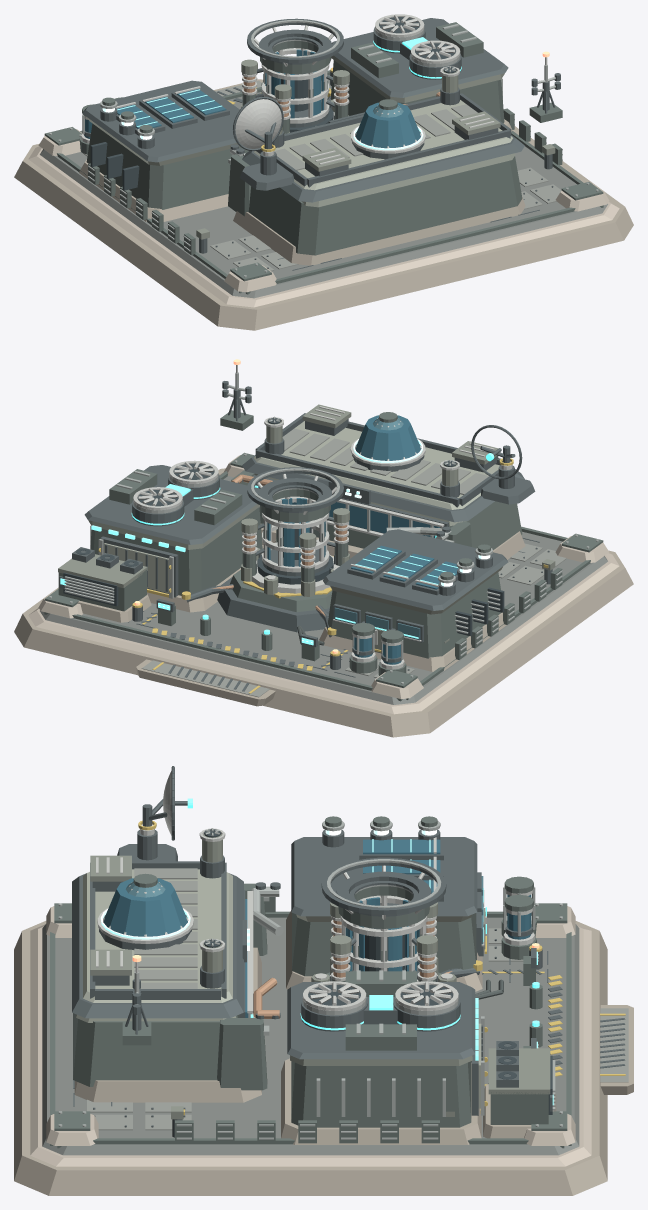
Rendered from research-offline.glb.
3 renders of one model, top to bottom at view 1: azimuth 30°, elevation 25°; view 2: azimuth 150°, elevation 25°; view 3: azimuth 270°, elevation 25°, orthographic. The views are drawn at different scales.
Visible parts, largest first — view 1: static__olive_dark, static__steel_dark, static__foundation, static__deck, static__concrete_high, static__steel_light, static__olive, static__glass_dark, static__deck_light, static__olive_light, static__steel, static__recess (+3 smaller); view 2: static__steel_dark, static__olive_dark, static__foundation, static__deck, static__concrete_high, static__steel_light, static__glass_dark, static__olive, static__deck_light, static__olive_light, static__steel, static__recess (+6 smaller); view 3: static__olive_dark, static__steel_dark, static__foundation, static__deck, static__concrete_high, static__steel_light, static__olive, static__deck_light, static__glass_dark, static__olive_light, static__steel, static__recess (+7 smaller).
Boxes of the visible parts, left/top/right/bottom form: static__olive_dark: left=43, top=22, right=603, bottom=294; static__steel_dark: left=82, top=18, right=560, bottom=270; static__foundation: left=14, top=79, right=633, bottom=330; static__deck: left=40, top=75, right=607, bottom=298; static__concrete_high: left=28, top=129, right=619, bottom=307; static__steel_light: left=81, top=14, right=547, bottom=164; static__olive: left=196, top=55, right=555, bottom=239; static__glass_dark: left=84, top=49, right=420, bottom=148; static__deck_light: left=83, top=80, right=561, bottom=271; static__olive_light: left=87, top=100, right=512, bottom=190; static__steel: left=49, top=24, right=598, bottom=277; static__recess: left=90, top=17, right=456, bottom=190; static__steel_dark: left=59, top=381, right=552, bottom=691; static__olive_dark: left=44, top=410, right=603, bottom=701; static__foundation: left=14, top=468, right=633, bottom=737; static__deck: left=40, top=476, right=607, bottom=704; static__concrete_high: left=28, top=455, right=619, bottom=714; static__steel_light: left=133, top=365, right=512, bottom=669; static__glass_dark: left=258, top=415, right=458, bottom=664; static__olive: left=58, top=404, right=555, bottom=649; static__deck_light: left=141, top=428, right=566, bottom=697; static__olive_light: left=104, top=421, right=502, bottom=614; static__steel: left=49, top=372, right=598, bottom=684; static__recess: left=63, top=417, right=504, bottom=636; static__olive_dark: left=50, top=816, right=571, bottom=1148; static__steel_dark: left=72, top=829, right=625, bottom=1137; static__foundation: left=14, top=910, right=633, bottom=1195; static__deck: left=42, top=917, right=579, bottom=1155; static__concrete_high: left=30, top=906, right=591, bottom=1166; static__steel_light: left=96, top=825, right=534, bottom=1014; static__olive: left=76, top=834, right=550, bottom=1119; static__deck_light: left=87, top=868, right=628, bottom=1130; static__glass_dark: left=103, top=839, right=531, bottom=1017; static__olive_light: left=83, top=869, right=481, bottom=1108; static__steel: left=58, top=820, right=562, bottom=1139; static__recess: left=204, top=829, right=552, bottom=1114.
Bounding box in the file's own units: 20.6 × 8.14 × 20.67.
